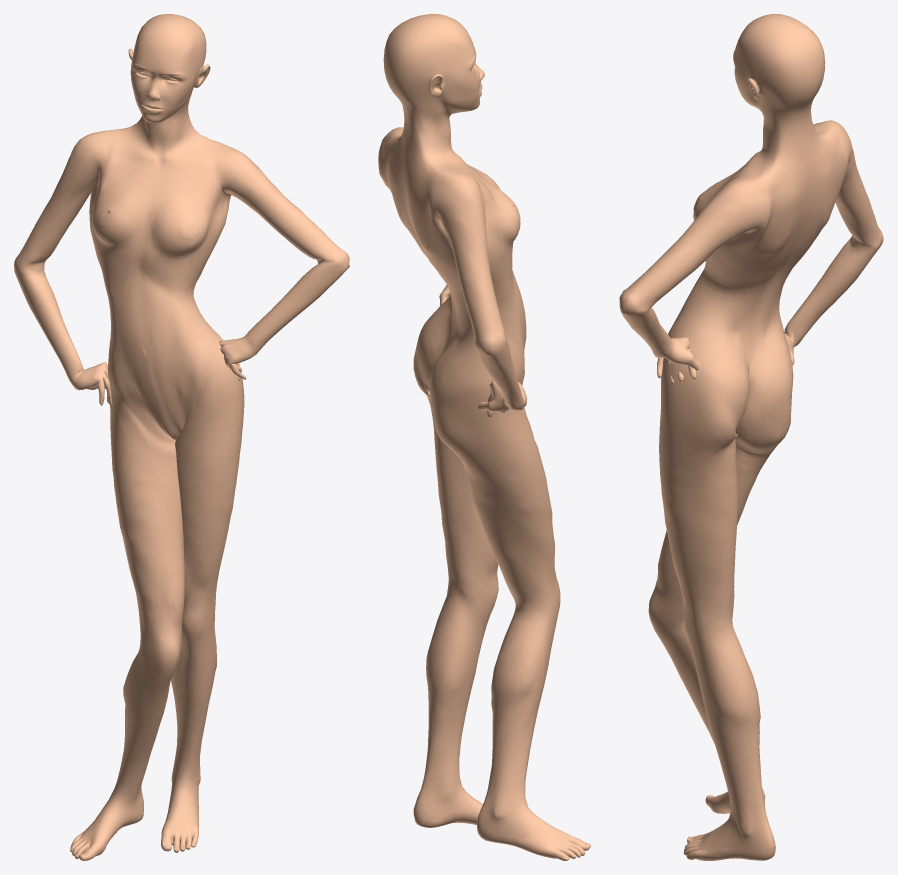
The model's file is Gruppo_mannequin.fbx.
3 views of the same model, side by side, from view 1: azimuth 30°, elevation 25°; view 2: azimuth 150°, elevation 25°; view 3: azimuth 270°, elevation 25° (orthographic). The views are drawn at different scales.
Visible parts, largest first — view 1: SketchUp; view 2: SketchUp; view 3: SketchUp.
Part boxes in pixels (x1,y1,x2,y2): SketchUp: (14, 14, 349, 860); SketchUp: (378, 14, 590, 860); SketchUp: (619, 14, 883, 860).
Size of the model in its own units: 20.18 by 18.66 by 66.2.
